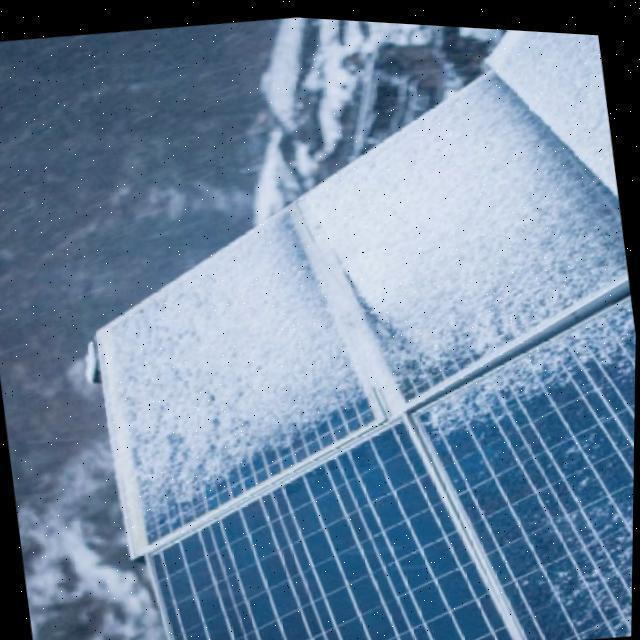Anomaly Solar Panel: (297, 68, 637, 638), (94, 199, 522, 640)
Snow: (81, 68, 627, 527)
